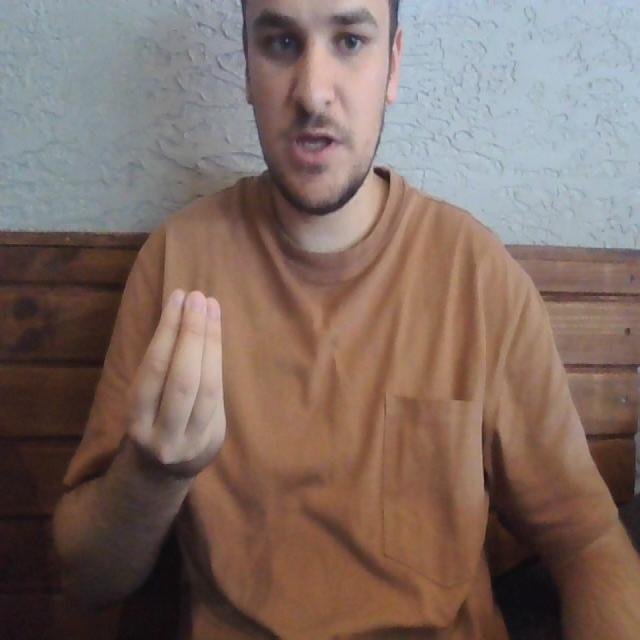iyi: (116, 276, 226, 476)
